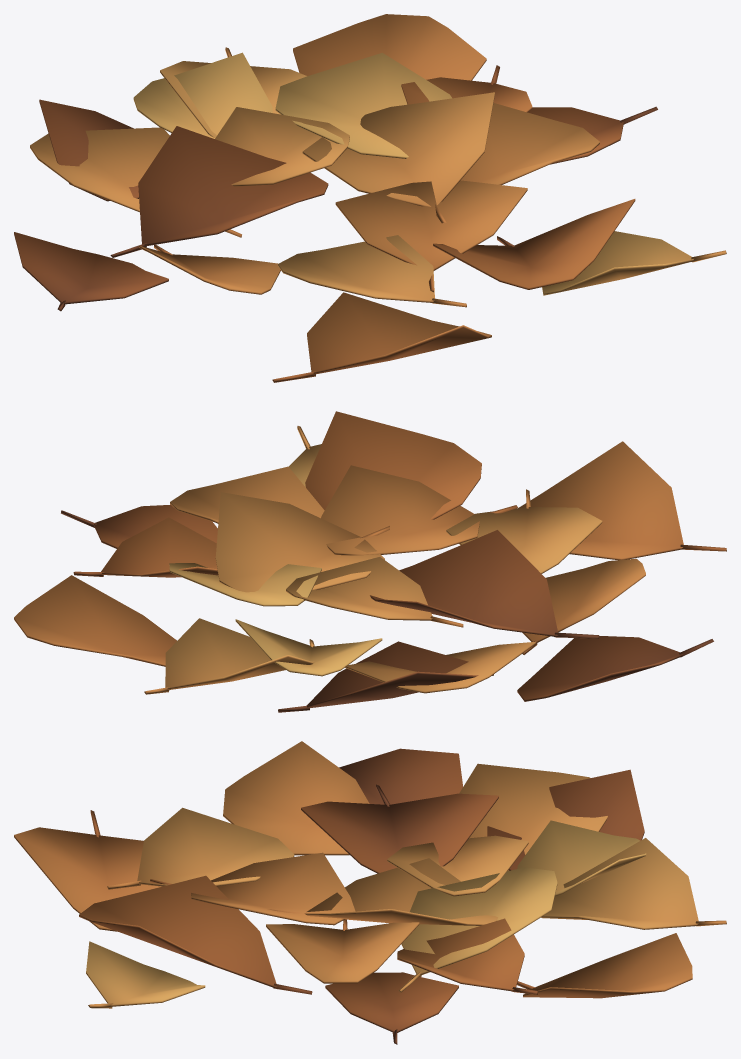
Rendered from fallenleaves.lod0.glb.
3 views of the same model, one above another, from view 1: azimuth 30°, elevation 25°; view 2: azimuth 150°, elevation 25°; view 3: azimuth 270°, elevation 25° (orthographic). The views are drawn at different scales.
Visible parts, largest first — view 1: fallenleaves_s1_lod0; view 2: fallenleaves_s1_lod0; view 3: fallenleaves_s1_lod0.
Boxes of the visible parts, x1,y1,x2,y2 form: fallenleaves_s1_lod0: [14, 14, 726, 382]; fallenleaves_s1_lod0: [14, 411, 726, 712]; fallenleaves_s1_lod0: [14, 741, 726, 1044].
Size of the model in its own units: 0.6272 by 0.1036 by 0.6244.
